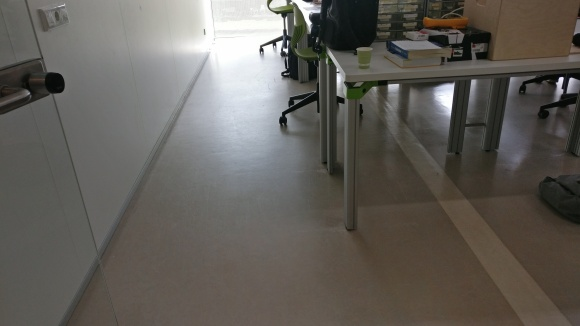cup: (355, 45, 373, 69)
